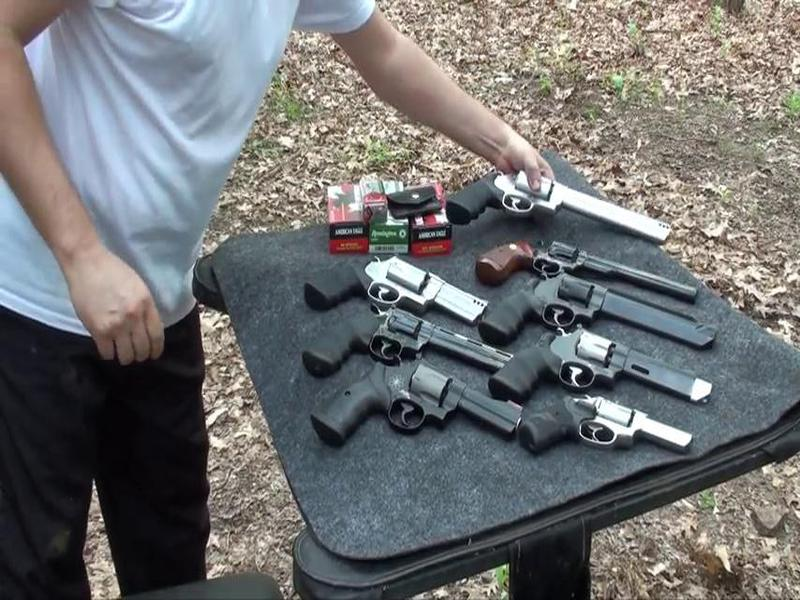Revolver: (443, 150, 706, 263)
